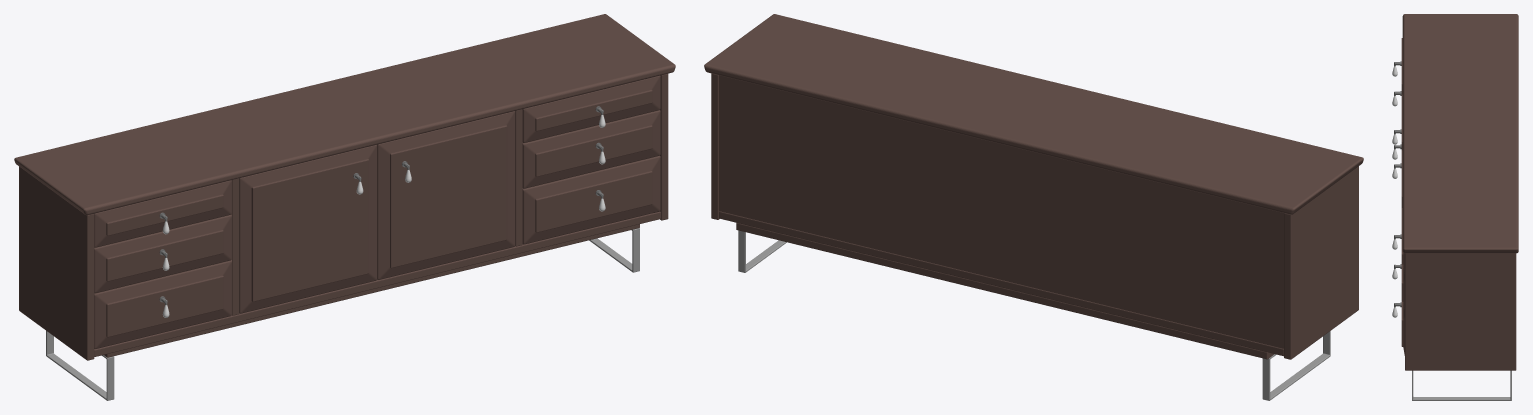
Rendered from Chest.fbx.
3 renders of one model, left to right at view 1: azimuth 30°, elevation 25°; view 2: azimuth 150°, elevation 25°; view 3: azimuth 270°, elevation 25°, orthographic. The views are drawn at different scales.
Parts seen in each view (by area): view 1: Chest, ChestLegs, Knob01; view 2: Chest, ChestLegs; view 3: Chest, ChestLegs, Knob01, Knob.
Boxes of the visible parts, box(x1,y1,x2,y2) form: Chest: box(14, 14, 675, 360); ChestLegs: box(46, 228, 639, 400); Knob01: box(162, 115, 605, 317); Chest: box(704, 14, 1363, 359); ChestLegs: box(738, 230, 1330, 400); Chest: box(1401, 14, 1518, 370); ChestLegs: box(1412, 370, 1511, 400); Knob01: box(1392, 66, 1397, 317); Knob: box(1394, 61, 1401, 307).
Size of the model in its own units: 1.97 by 0.6436 by 0.4474.
